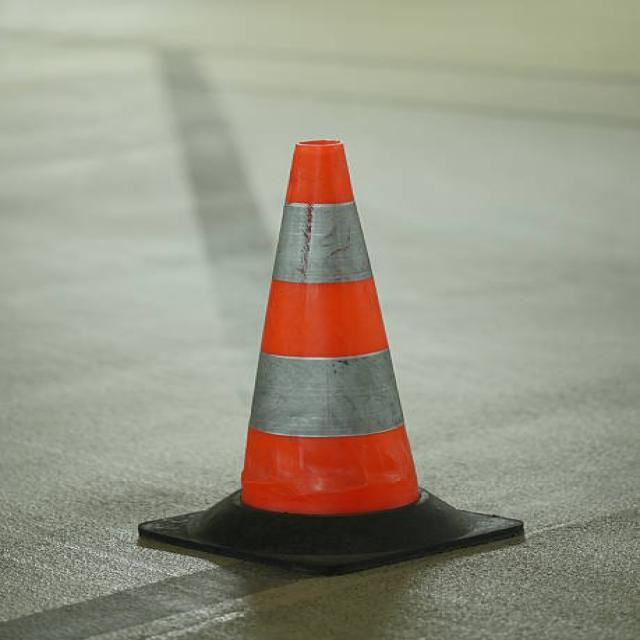Traffic Cone: (114, 98, 541, 592)
